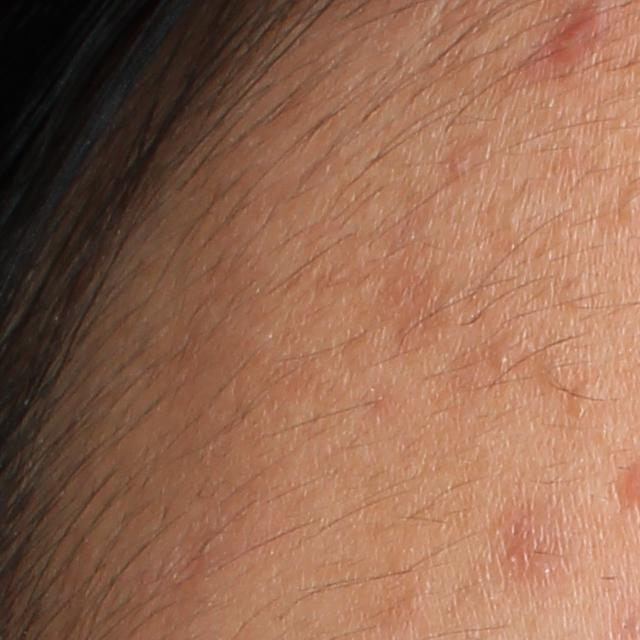comedo: (481, 337, 524, 374)
